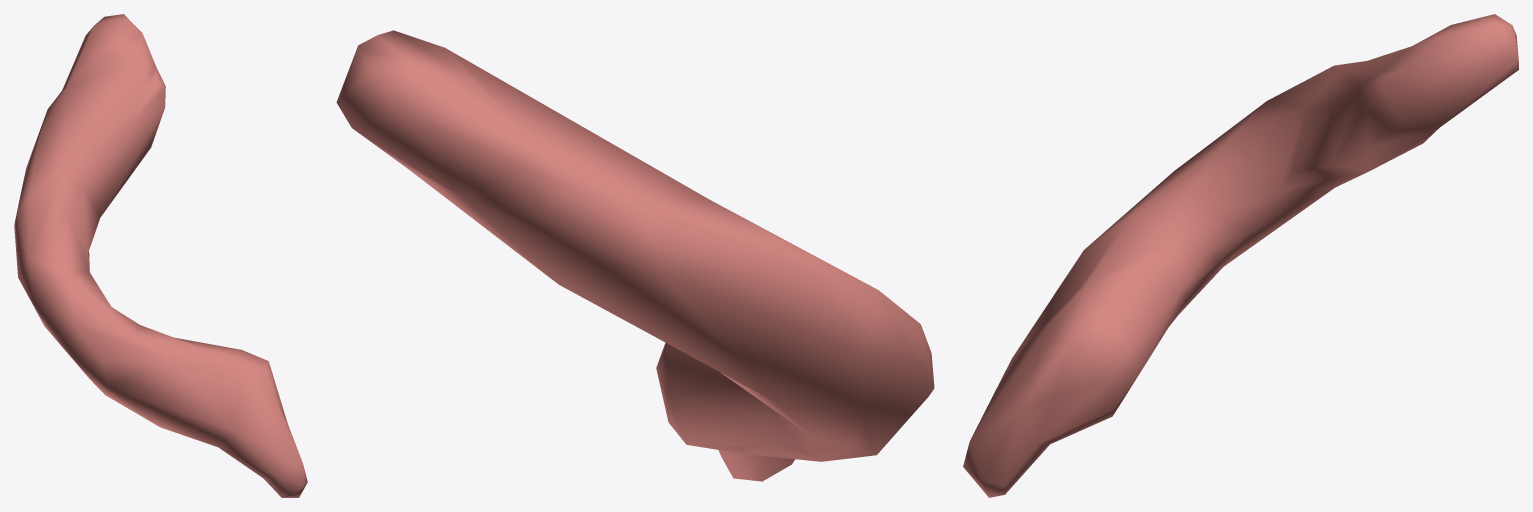
3 renders of one model, left to right at view 1: azimuth 30°, elevation 25°; view 2: azimuth 150°, elevation 25°; view 3: azimuth 270°, elevation 25°, orthographic. The views are drawn at different scales.
Visible parts, largest first — view 1: ZA_79d72af619230fc3; view 2: ZA_79d72af619230fc3; view 3: ZA_79d72af619230fc3.
Boxes of the visible parts, left/top/right/bottom form: ZA_79d72af619230fc3: left=14, top=14, right=307, bottom=497; ZA_79d72af619230fc3: left=336, top=30, right=934, bottom=481; ZA_79d72af619230fc3: left=963, top=14, right=1518, bottom=497.
Bounding box in the file's own units: 0.012 × 0.0216 × 0.0228.
